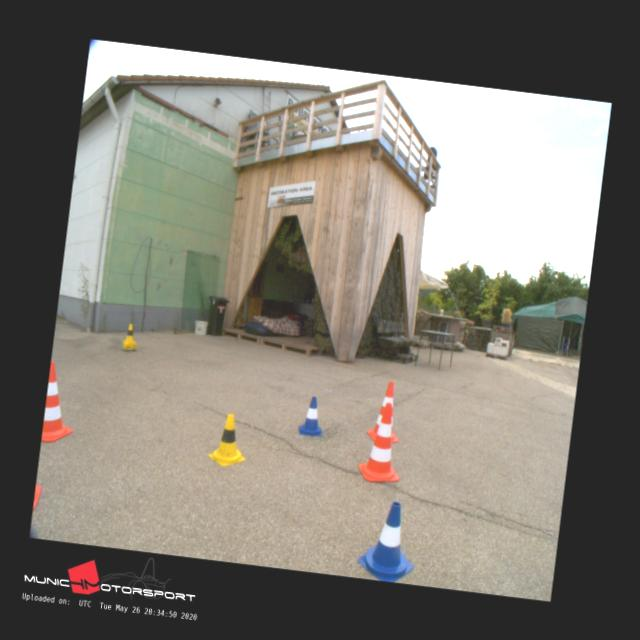blue_cone: (355, 498, 420, 584), (298, 394, 326, 435)
large_orange_cone: (356, 400, 406, 484), (41, 362, 79, 444), (366, 379, 405, 442)
yellow_cone: (207, 411, 250, 466), (121, 322, 138, 343)
